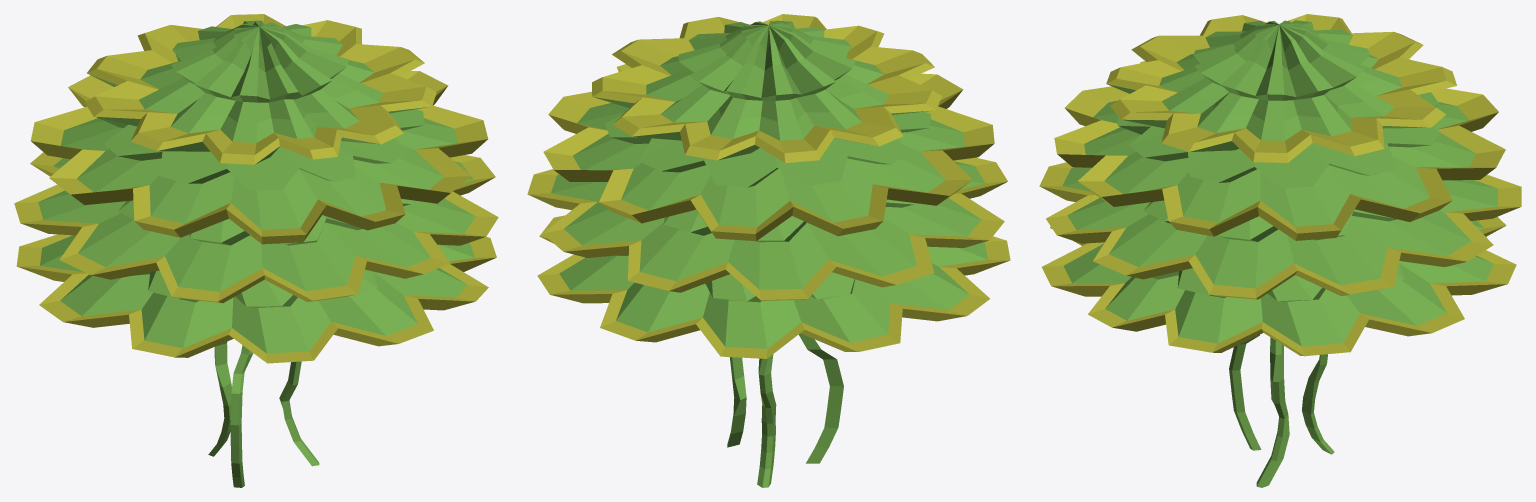
File: BushMushroom.fbx
3 views of the same model, side by side, from view 1: azimuth 30°, elevation 25°; view 2: azimuth 150°, elevation 25°; view 3: azimuth 270°, elevation 25° (orthographic).
Parts seen in each view (by area): view 1: Green moss; view 2: Green moss; view 3: Green moss.
Boxes of the visible parts, x1=… form: Green moss: x1=14, y1=14, x2=498, y2=487; Green moss: x1=527, y1=14, x2=1010, y2=487; Green moss: x1=1039, y1=14, x2=1521, y2=487.
Bounding box in the file's own units: 283 × 285 × 283.
